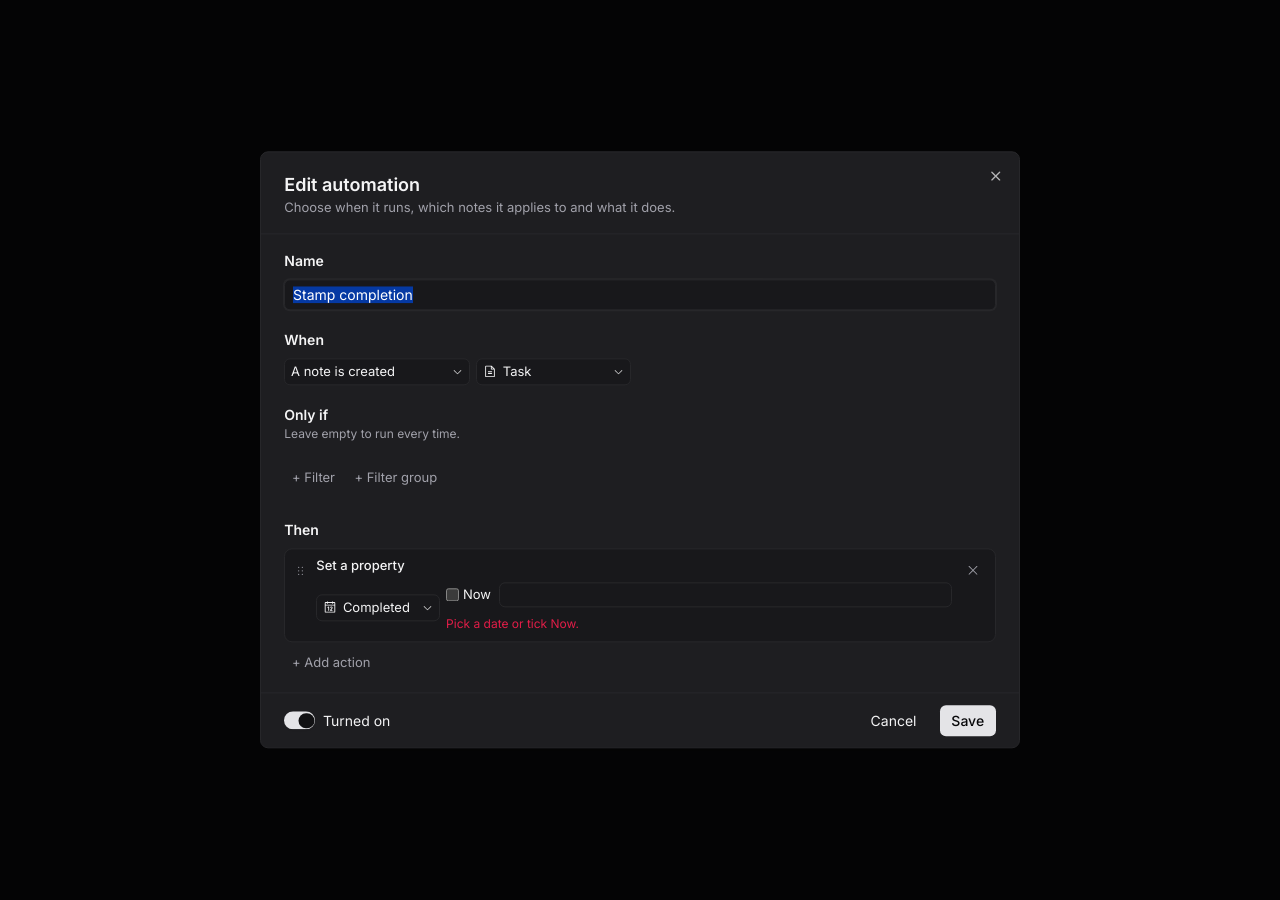
Scenario: RuleEditorDialog › a date set to nothing (Now unticked, no date) is refused with an inline message
This screenshot has width=1280, height=900.
Later steps or results of the test are not shown.
Expected: the text "Pick a date or tick Now." is shown, left=446, top=616, right=579, bottom=631
Click the button "Save" at (968, 721), box left=940, top=705, right=996, bottom=736
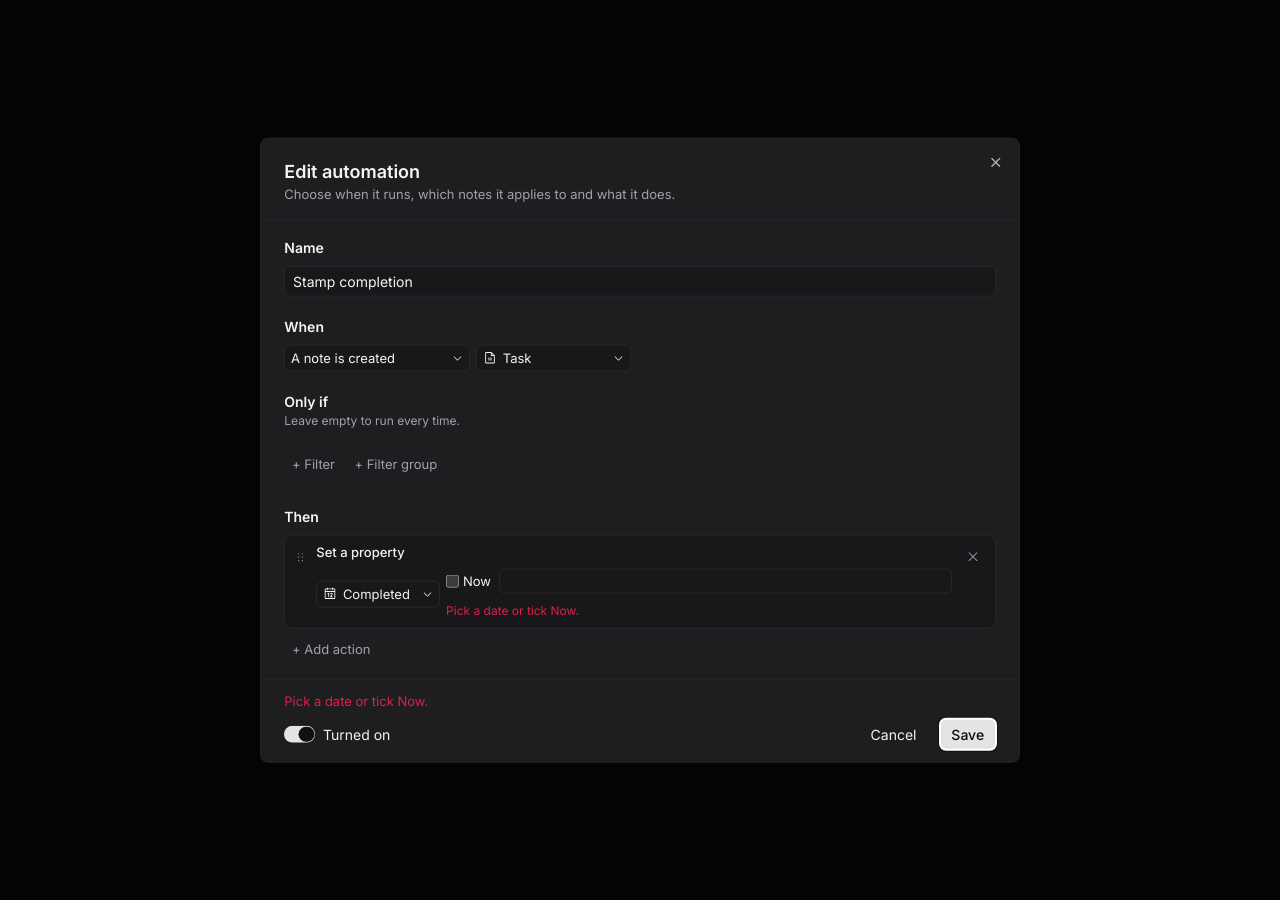
Expected: the message reads "Pick a date or tick Now.", left=284, top=692, right=428, bottom=708
// Ticking Now makes it whole.
Click the checkbox labelled "Now" at (453, 581), box left=446, top=575, right=459, bottom=588
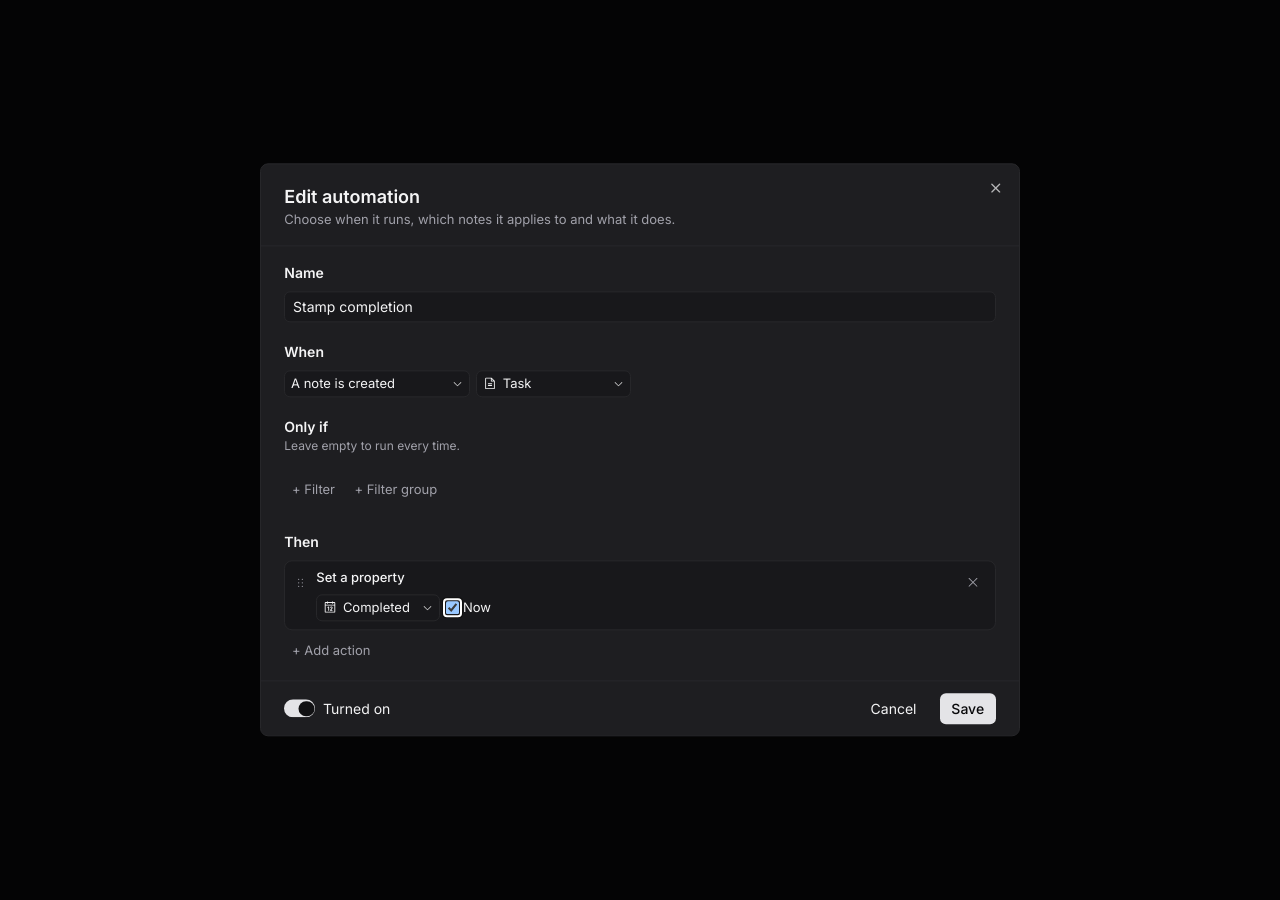
Expected: the text "Pick a date or tick Now." is gone
